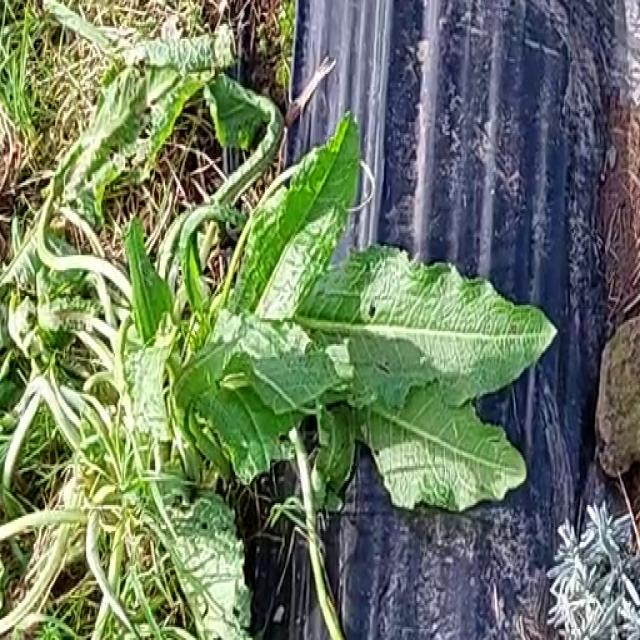organic waste: (67, 22, 604, 598)
